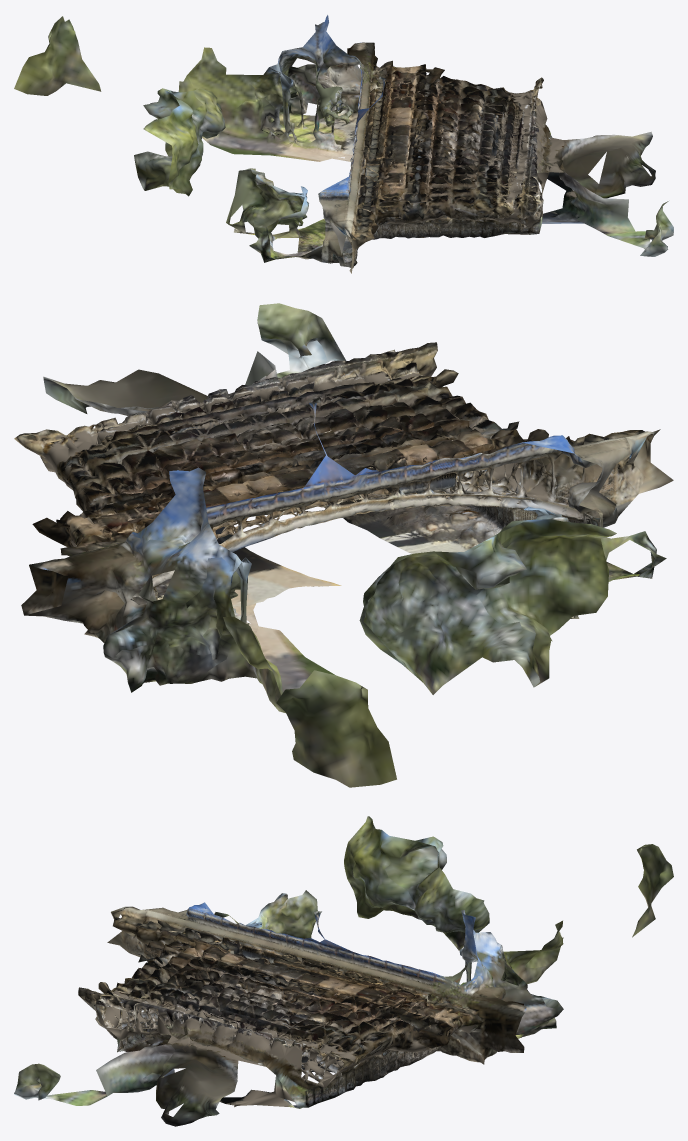
3 views of the same model, one above another, from view 1: azimuth 30°, elevation 25°; view 2: azimuth 150°, elevation 25°; view 3: azimuth 270°, elevation 25° (orthographic). The views are drawn at different scales.
Parts seen in each view (by area): view 1: baked_mesh_4f33c4e8; view 2: baked_mesh_4f33c4e8; view 3: baked_mesh_4f33c4e8.
Part boxes in pixels (x1,y1,x2,y2): baked_mesh_4f33c4e8: [14, 15, 673, 273]; baked_mesh_4f33c4e8: [14, 303, 673, 787]; baked_mesh_4f33c4e8: [14, 816, 673, 1126].
Bounding box in the file's own units: 10.75 × 2.74 × 13.2.
Materials: 1 (1 with a texture image).
